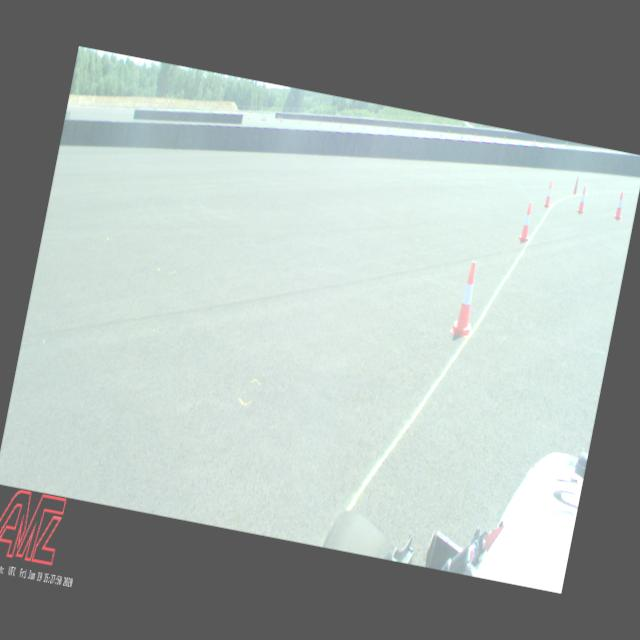orange_cone: (450, 260, 486, 340), (517, 202, 536, 244), (613, 190, 627, 220), (542, 180, 556, 209), (576, 186, 590, 213)
unknown_cone: (572, 176, 580, 196)
